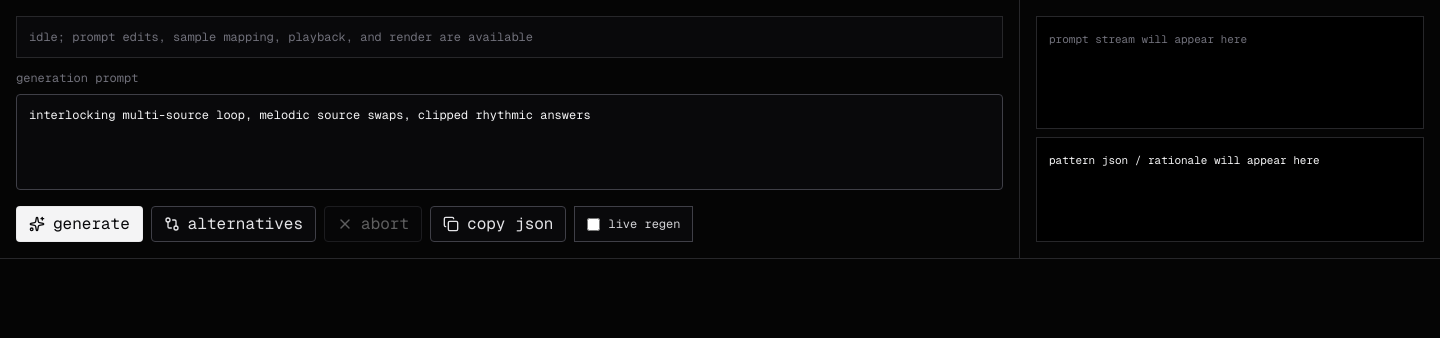
Scenario: SpliceGenerationPanel › falls back to a local splice map when the gateway fails
Click the button "generate".
click(79, 224)  # box [16, 206, 143, 242]
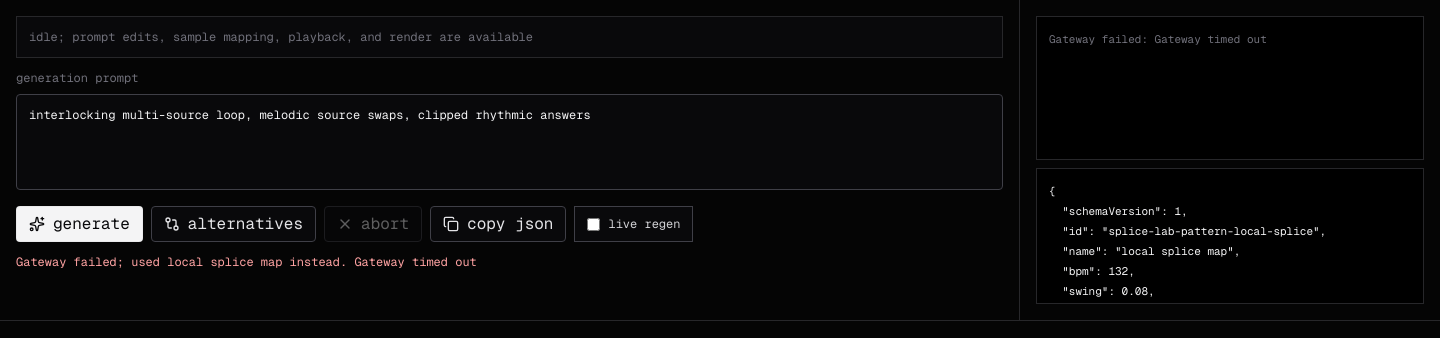
Result: the text "Gateway failed; used local splice map instead" is shown at [16, 254, 477, 270]
